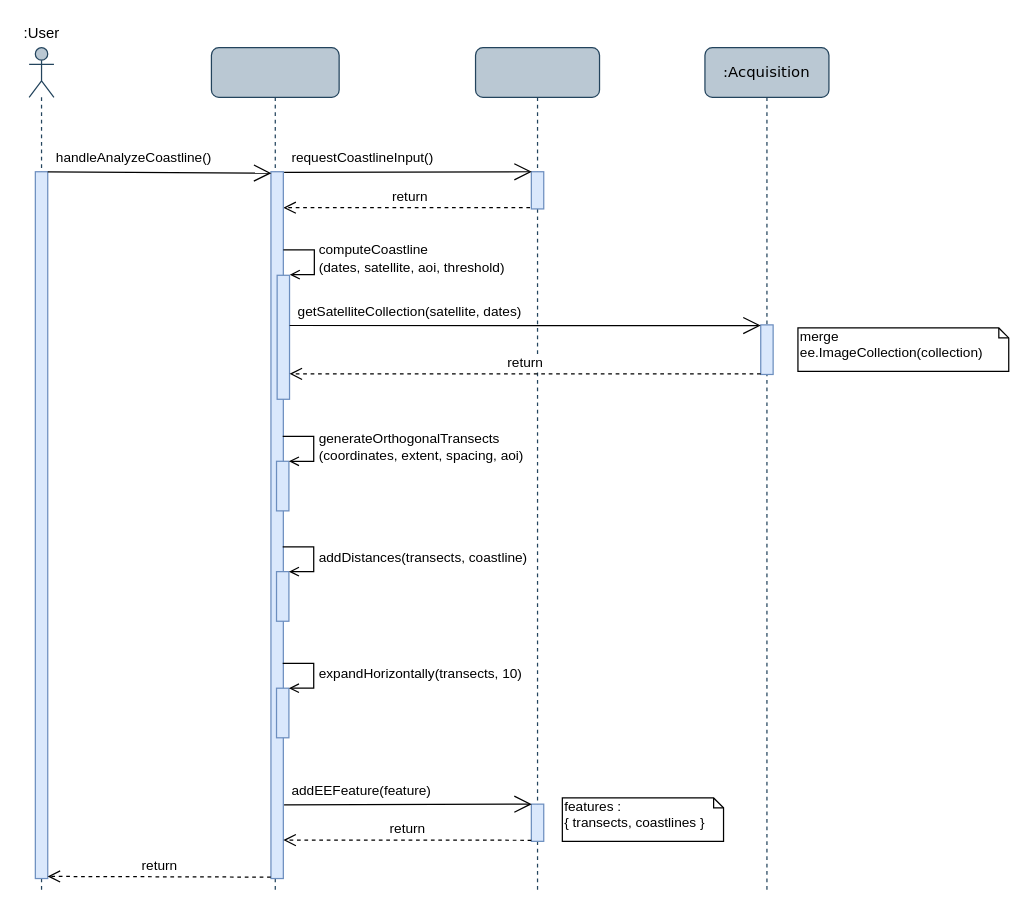
Some shapes in this 1030 by 913 pixel diagram are drawn without their labels. The box of each missing label's shape, as (x1, y1, x2, y2) in pixels:
:Imagery: (210, 46, 339, 891)
:Map: (474, 46, 600, 891)
